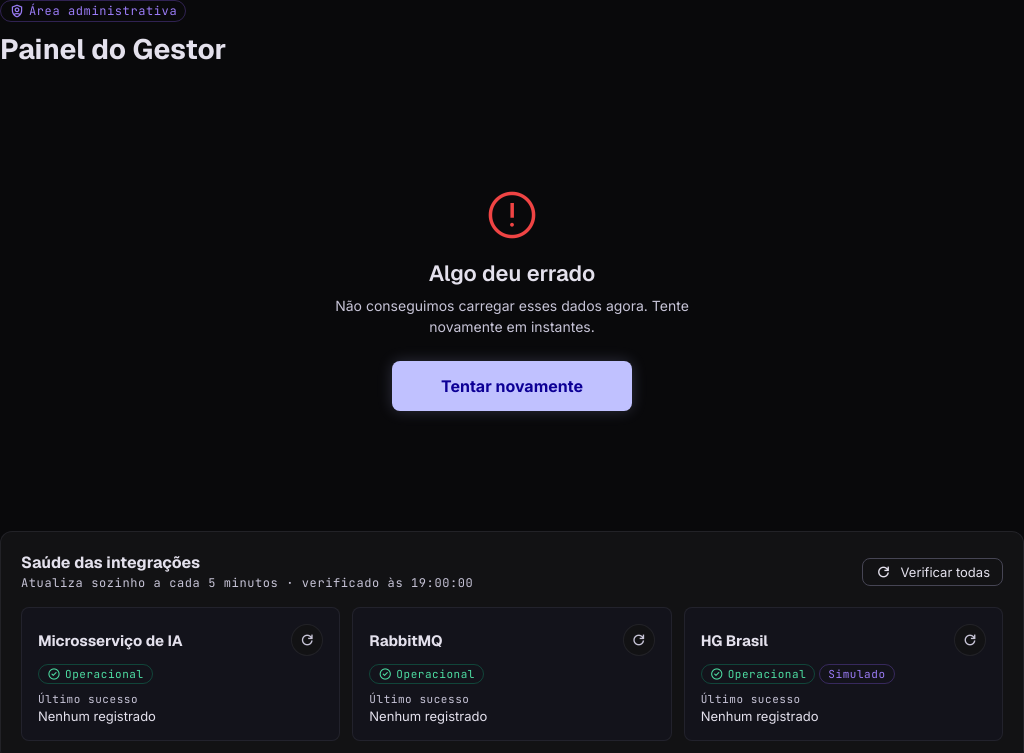
Scenario: DashboardAdminComponent › falha ao carregar as métricas deve mostrar erro, e tentar novamente deve recarregar
The image size is (1024, 753).
Expected: the element that starts with "Algo deu errado" is shown, top-left (335, 181), bottom-right (689, 411)
Click the button "Tentar novamente". click: point(512, 386)
box: top-left (392, 361), bottom-right (632, 411)
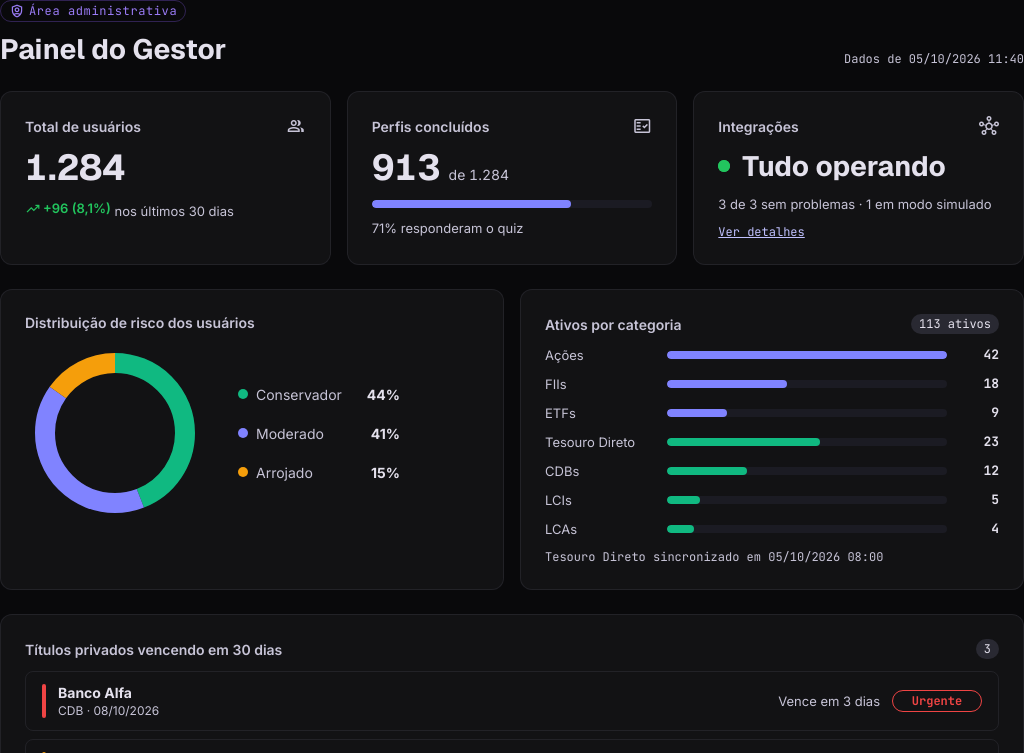
Result: the element with test id "card-usuarios" is shown at top-left (0, 91), bottom-right (331, 265)
